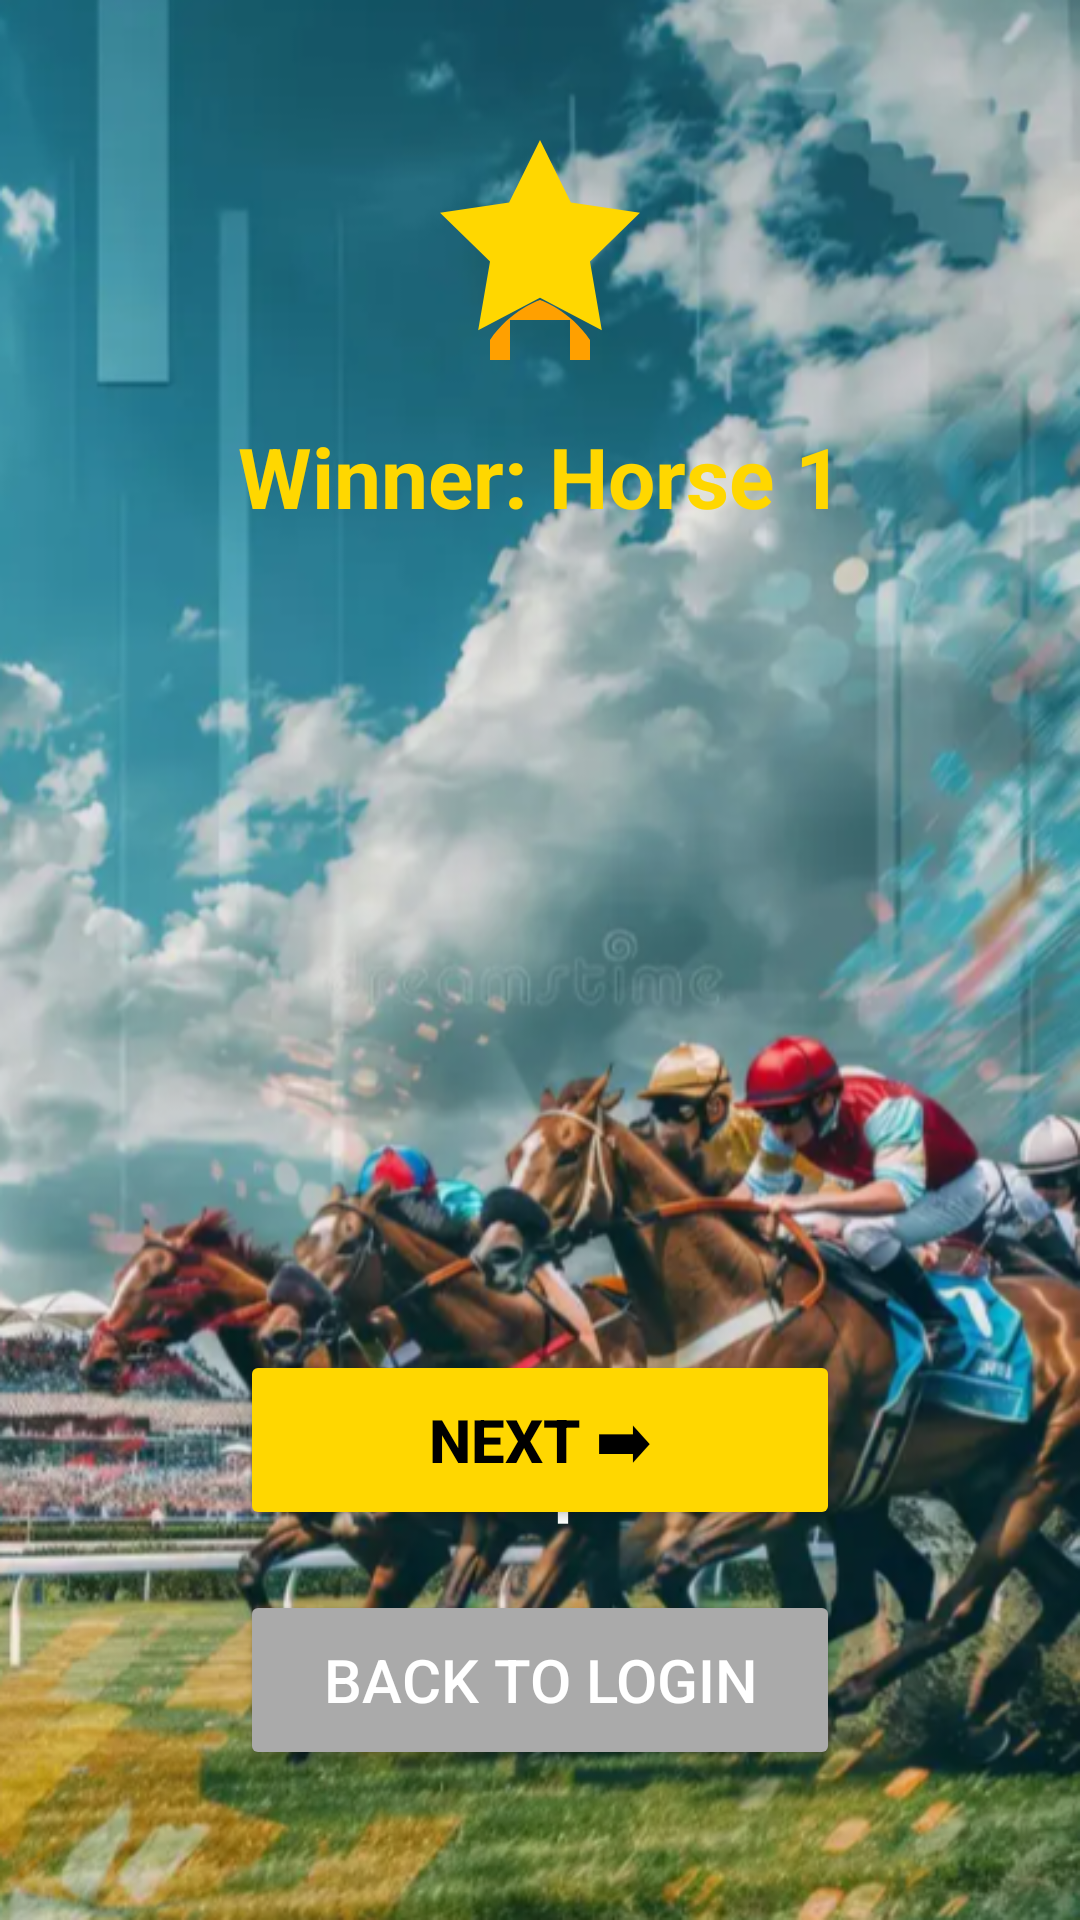

Screen size 1080 × 1920. Icon name, then its center in pixels as [x,y]:
Trophy Icon: [550,240]
